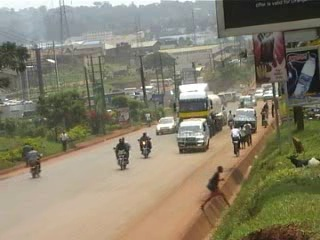Car: (154, 114, 181, 137), (214, 104, 229, 130), (250, 86, 263, 102), (251, 93, 255, 107)
Motorcycle: (23, 145, 44, 180), (112, 135, 131, 171), (136, 128, 153, 158)
